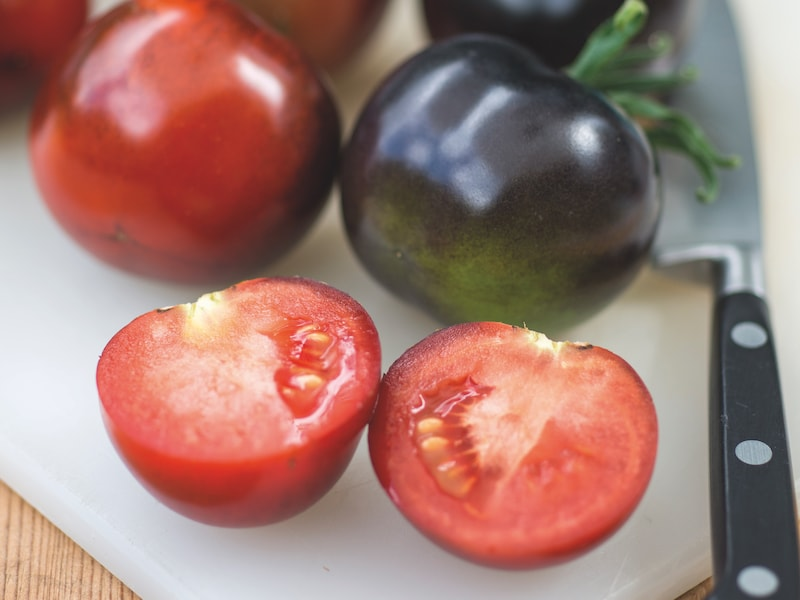tomato: (72, 284, 393, 550)
